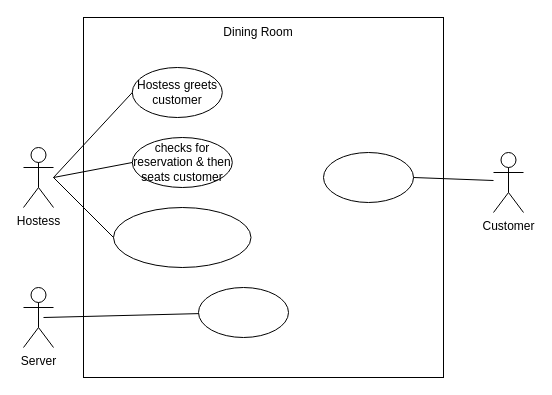
The diagram is 552 pixels wide and 395 high, and some of its shapes have lost their labels. Each missing label, with the centre of its shape:
"enters Dining Room" belongs at point 368,177.
"provides customer with a table, a menu and a wine list" belongs at point 181,237.
"will be assigned to a table" belongs at point 243,312.
